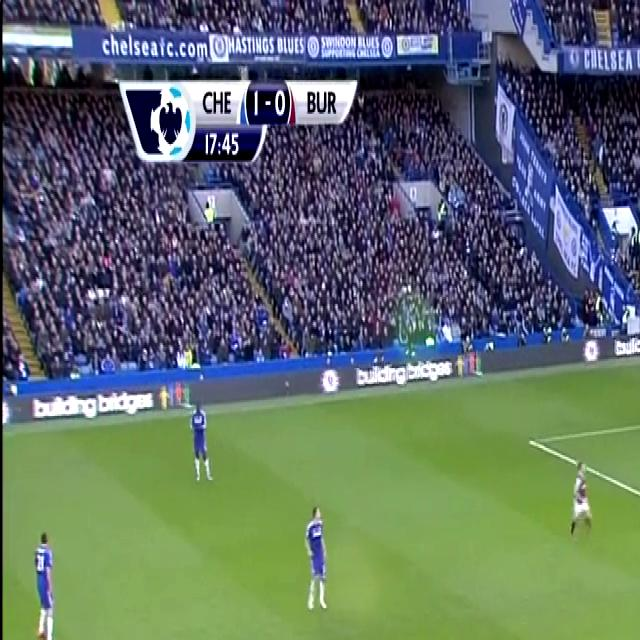soccer-player: (26, 521, 62, 640), (301, 494, 332, 618), (566, 458, 596, 543), (188, 397, 216, 484)
